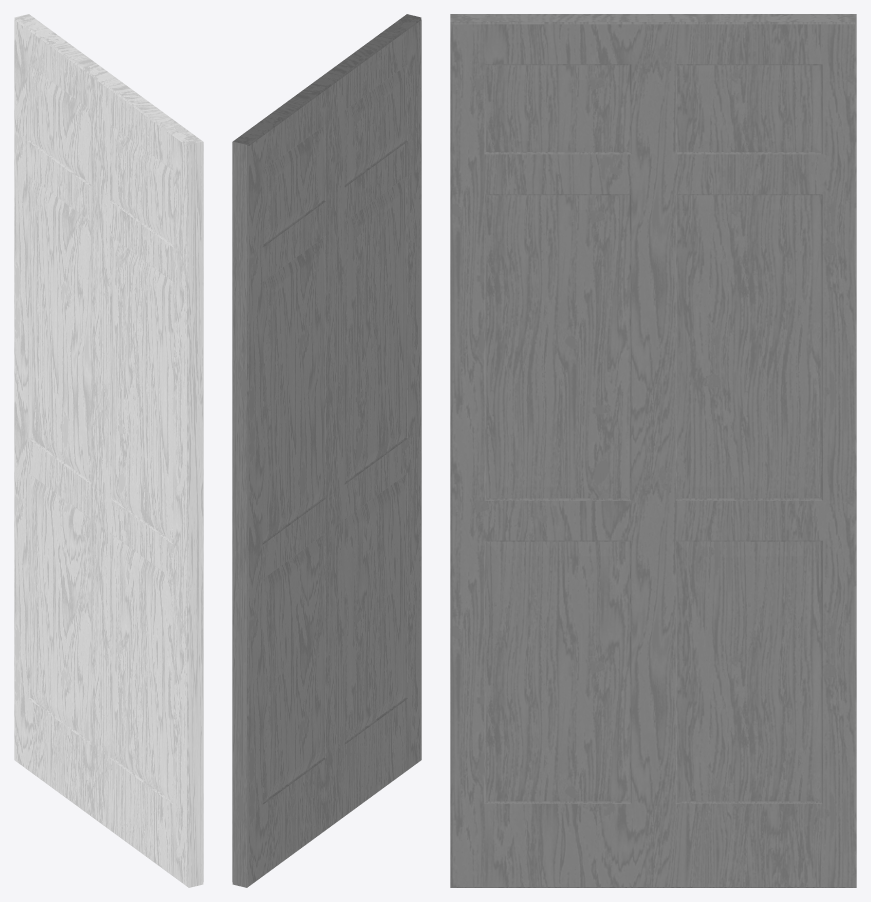
Rendered from FP207:StandardDoor1_f8973a1a.obj.
The picture shows the model from 3 angles, left to right: view 1: azimuth 30°, elevation 25°; view 2: azimuth 150°, elevation 25°; view 3: azimuth 270°, elevation 25°; orthographic projection. The views are drawn at different scales.
Parts seen in each view (by area): view 1: FP207:StandardDoor1_f8973a1a; view 2: FP207:StandardDoor1_f8973a1a; view 3: FP207:StandardDoor1_f8973a1a.
Part boxes in pixels (bbox=[...]): FP207:StandardDoor1_f8973a1a: bbox=[14, 14, 203, 887]; FP207:StandardDoor1_f8973a1a: bbox=[232, 14, 421, 887]; FP207:StandardDoor1_f8973a1a: bbox=[450, 14, 856, 887].
Bounding box in the file's own units: 0.056 × 2 × 0.85.
